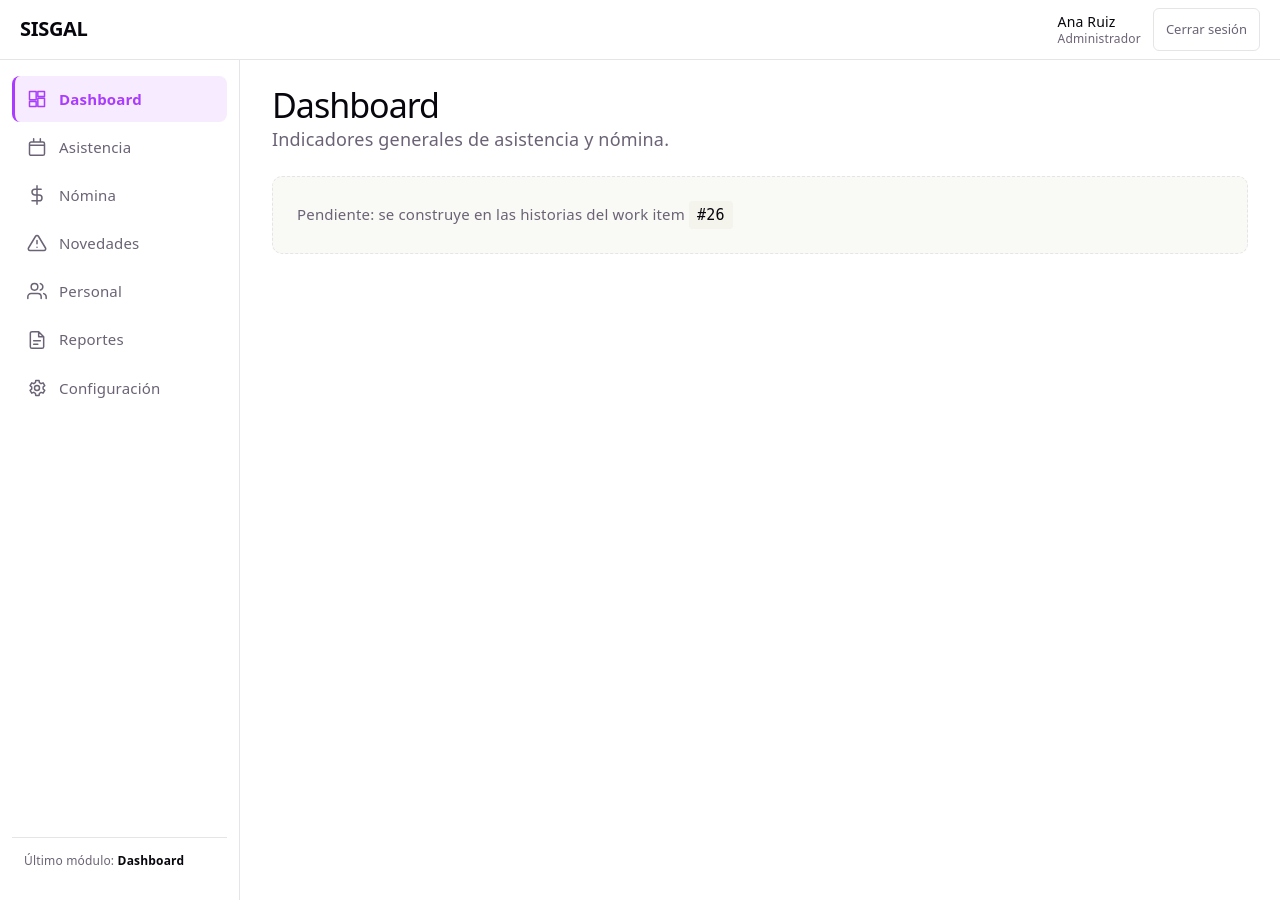
Test: Navegación entre módulos › navega sin recargar la app: el shell no se vuelve a montar
Click the link "Reportes" at (75, 340), box [27, 330, 124, 350]
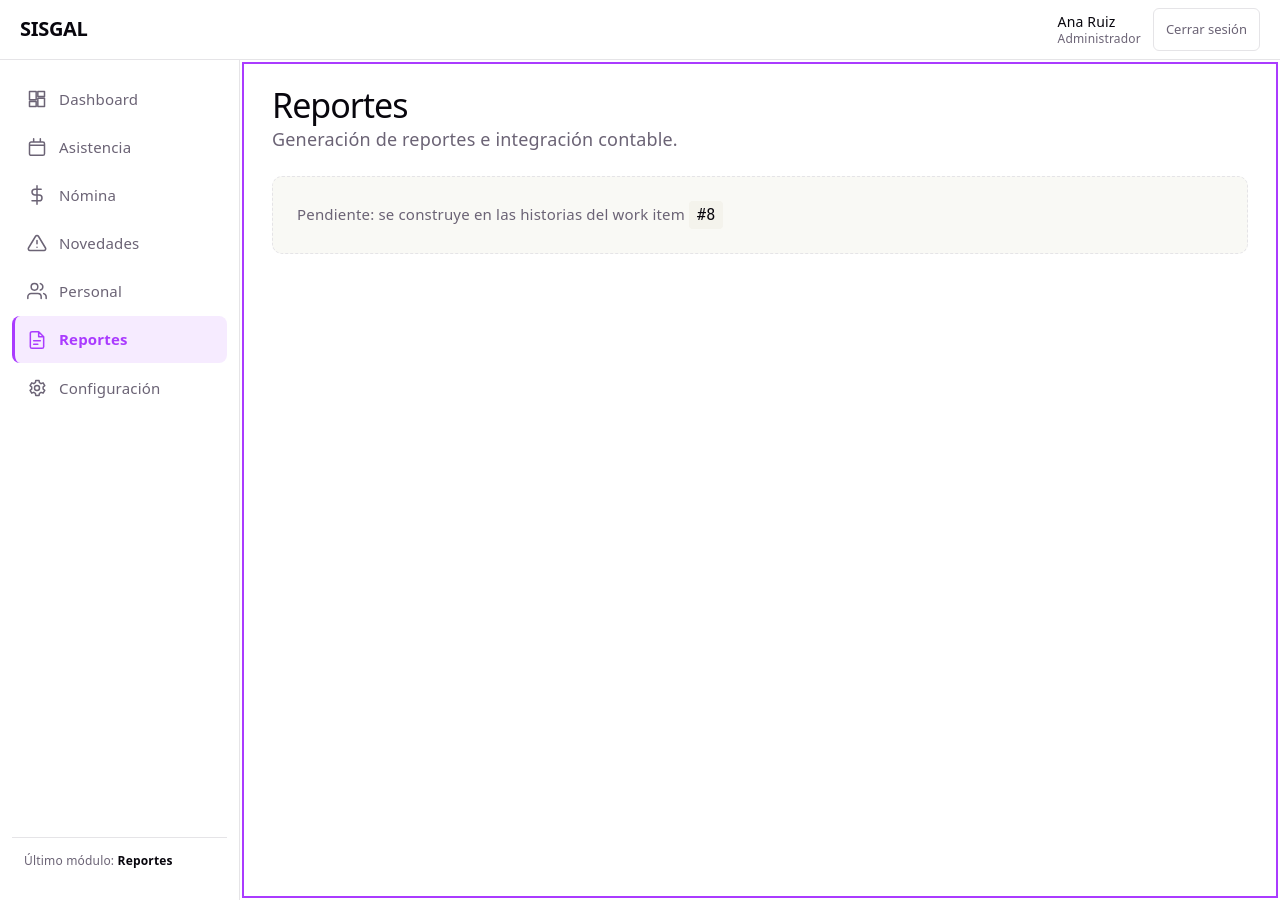
Check: the heading "Reportes" is shown, box [272, 82, 408, 128]
